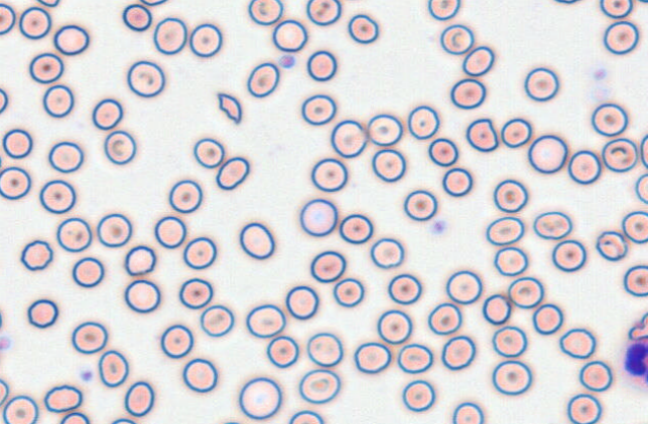GRAN: (623, 333, 648, 390)
PLT: (427, 219, 449, 235), (278, 53, 297, 71), (78, 366, 94, 384), (0, 334, 12, 351)
RBC: (238, 376, 282, 419), (527, 134, 567, 174), (298, 368, 340, 404), (299, 198, 338, 236), (491, 359, 532, 395), (330, 119, 367, 158), (126, 60, 165, 97), (245, 303, 286, 338), (238, 221, 274, 259), (306, 331, 343, 367), (445, 269, 482, 304), (39, 179, 76, 214), (310, 157, 347, 192), (124, 278, 160, 313), (376, 309, 412, 344), (56, 217, 92, 252), (96, 212, 132, 247), (523, 66, 559, 101), (601, 137, 637, 172), (153, 17, 187, 54), (591, 102, 628, 136), (353, 341, 391, 374), (182, 357, 217, 392), (493, 178, 528, 213), (603, 20, 639, 54), (71, 321, 108, 354), (558, 327, 596, 359), (441, 335, 475, 370), (371, 148, 406, 182), (567, 149, 601, 184), (271, 19, 307, 52), (310, 250, 346, 283), (367, 113, 403, 146), (507, 276, 544, 308), (97, 349, 128, 387), (533, 210, 572, 240), (215, 156, 249, 190), (285, 285, 319, 319), (168, 179, 202, 213), (427, 302, 462, 335), (199, 304, 234, 337), (246, 62, 279, 97), (189, 22, 222, 57), (103, 129, 136, 164), (48, 140, 83, 173), (551, 239, 586, 272), (491, 325, 527, 357), (123, 380, 154, 417), (43, 384, 82, 413), (485, 216, 524, 245), (401, 379, 435, 412), (160, 324, 193, 358), (182, 236, 216, 269), (178, 277, 213, 309), (450, 77, 485, 109), (301, 93, 336, 125), (407, 104, 439, 139), (53, 24, 89, 55), (396, 343, 433, 373), (266, 335, 299, 368), (18, 6, 51, 39), (578, 360, 612, 392), (42, 84, 74, 118), (403, 189, 437, 221), (369, 237, 404, 268), (387, 273, 422, 304), (566, 393, 602, 423), (154, 215, 186, 248), (20, 239, 53, 271), (0, 166, 31, 200), (29, 52, 63, 83), (339, 213, 373, 244), (493, 246, 528, 276), (439, 24, 474, 54), (124, 244, 156, 276), (91, 98, 123, 130), (595, 230, 628, 261), (71, 256, 104, 287), (461, 45, 494, 76), (2, 395, 38, 423), (532, 303, 563, 335), (500, 117, 532, 148), (306, 49, 337, 81), (193, 137, 224, 168), (347, 13, 378, 44), (481, 293, 511, 325), (26, 298, 58, 328), (332, 277, 364, 307), (441, 167, 472, 197), (247, 0, 283, 25), (2, 128, 32, 158), (427, 137, 458, 166), (306, 0, 341, 25), (621, 210, 647, 243), (122, 3, 152, 31), (623, 264, 647, 297), (452, 401, 484, 423), (427, 0, 460, 20), (599, 0, 633, 18), (287, 409, 323, 423), (0, 3, 15, 35), (59, 411, 90, 423), (635, 173, 647, 204), (640, 133, 648, 168), (0, 378, 9, 406), (0, 87, 8, 114), (138, 0, 168, 6), (36, 0, 60, 7), (110, 417, 137, 423), (551, 0, 582, 4), (215, 420, 243, 424), (339, 0, 367, 3), (0, 307, 3, 331), (636, 0, 648, 3)
Schistocyte: (467, 117, 499, 153), (218, 92, 242, 124), (631, 310, 648, 340)
